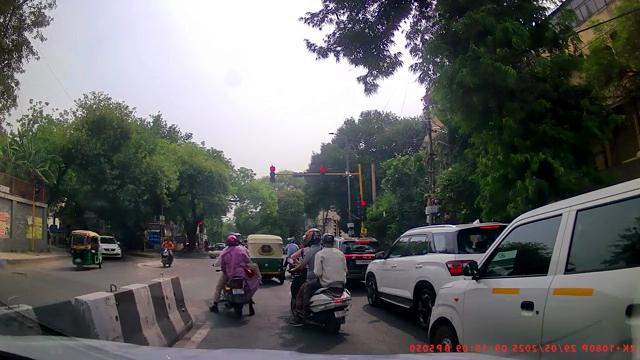passenger_with_helmet: (288, 228, 352, 334), (208, 232, 260, 320)
